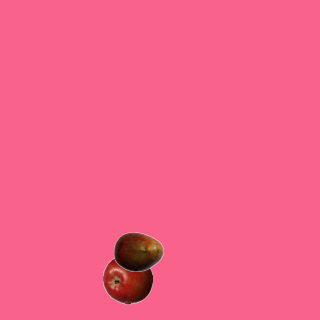Apple Braeburn: (102, 254, 152, 304)
Mango Red: (113, 226, 163, 276)
